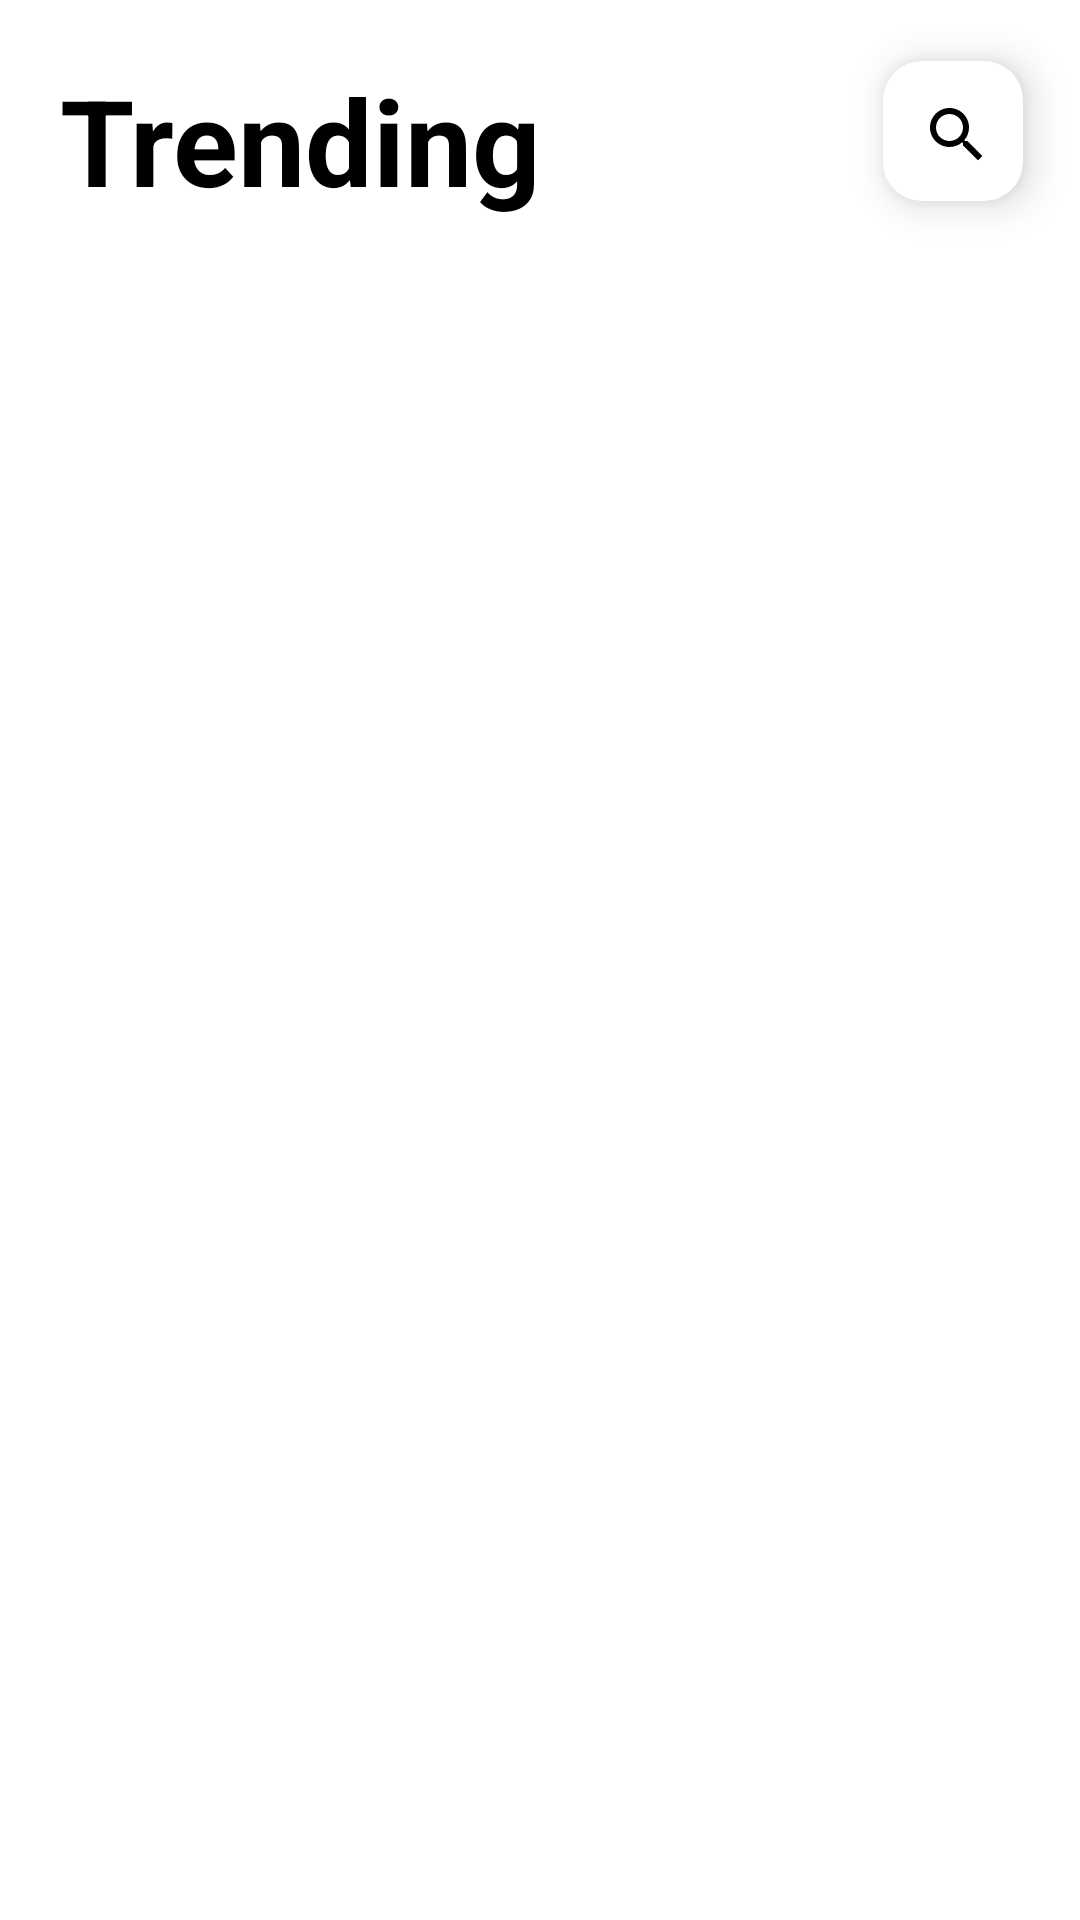

Screen size 1080*1920. Icon name, then its center in pixels as [x,y]:
Search Button: [957,135]
